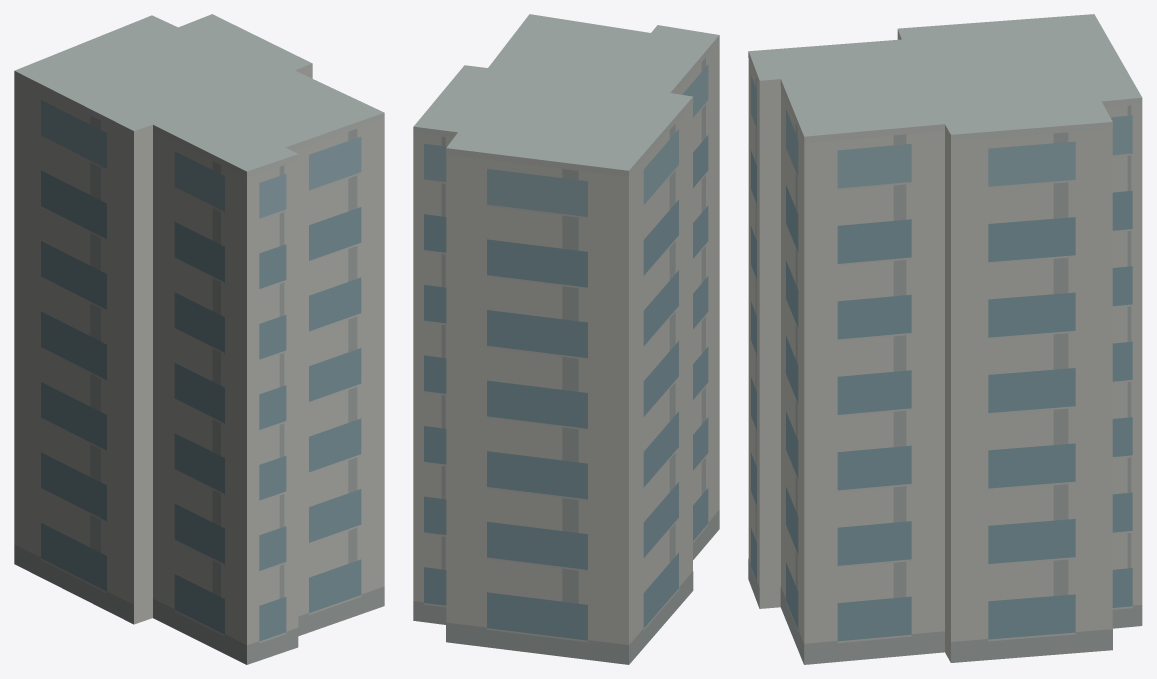
Rendered from survey-upis-32824058.glb.
3 renders of one model, left to right at view 1: azimuth 30°, elevation 25°; view 2: azimuth 150°, elevation 25°; view 3: azimuth 270°, elevation 25°, orthographic. The views are drawn at different scales.
Visible parts, largest first — view 1: survey-upis-32824058.tmp; view 2: survey-upis-32824058.tmp; view 3: survey-upis-32824058.tmp.
Boxes of the visible parts, x1,y1,x2,y2 form: survey-upis-32824058.tmp: [14, 14, 384, 664]; survey-upis-32824058.tmp: [413, 14, 719, 664]; survey-upis-32824058.tmp: [748, 14, 1142, 664].
Size of the model in its own units: 9.37 by 18.8 by 12.71.
